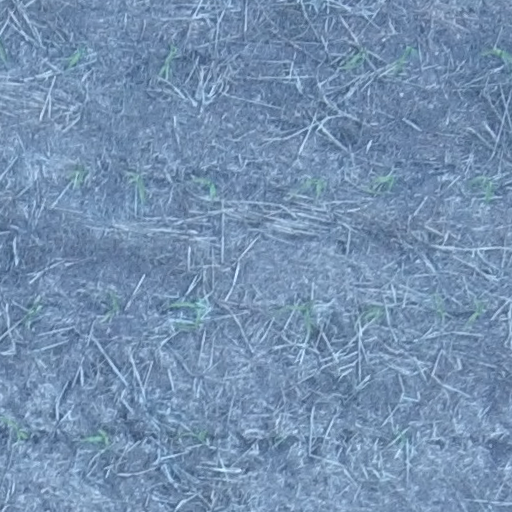planta: (168, 299, 205, 331), (284, 302, 315, 333), (389, 44, 416, 73), (471, 173, 496, 204), (192, 175, 218, 201), (81, 427, 112, 448), (158, 44, 178, 76), (340, 48, 367, 71), (300, 176, 327, 198), (128, 172, 147, 201), (465, 299, 486, 325), (362, 304, 385, 323), (372, 172, 396, 189), (67, 166, 86, 187), (65, 50, 83, 68), (190, 428, 210, 443), (434, 296, 447, 319), (110, 291, 120, 312), (26, 304, 41, 317)
